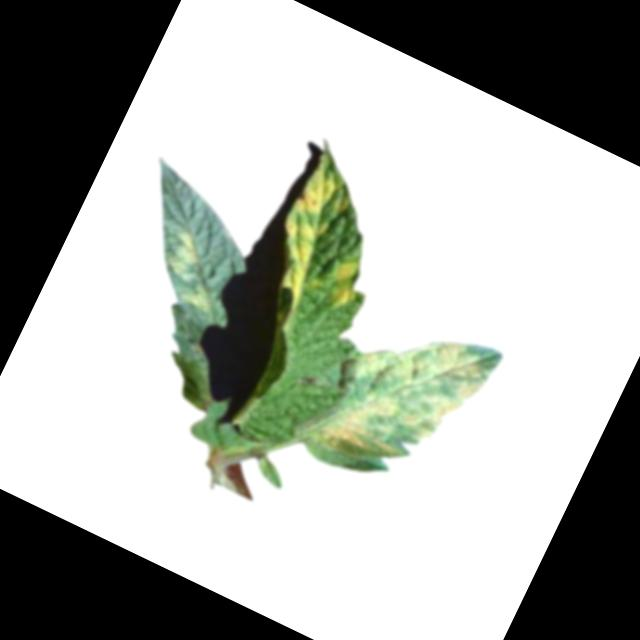Leaf_Mold: (313, 302, 497, 497), (249, 146, 366, 315), (319, 254, 370, 317), (159, 226, 211, 285), (178, 282, 216, 315)
